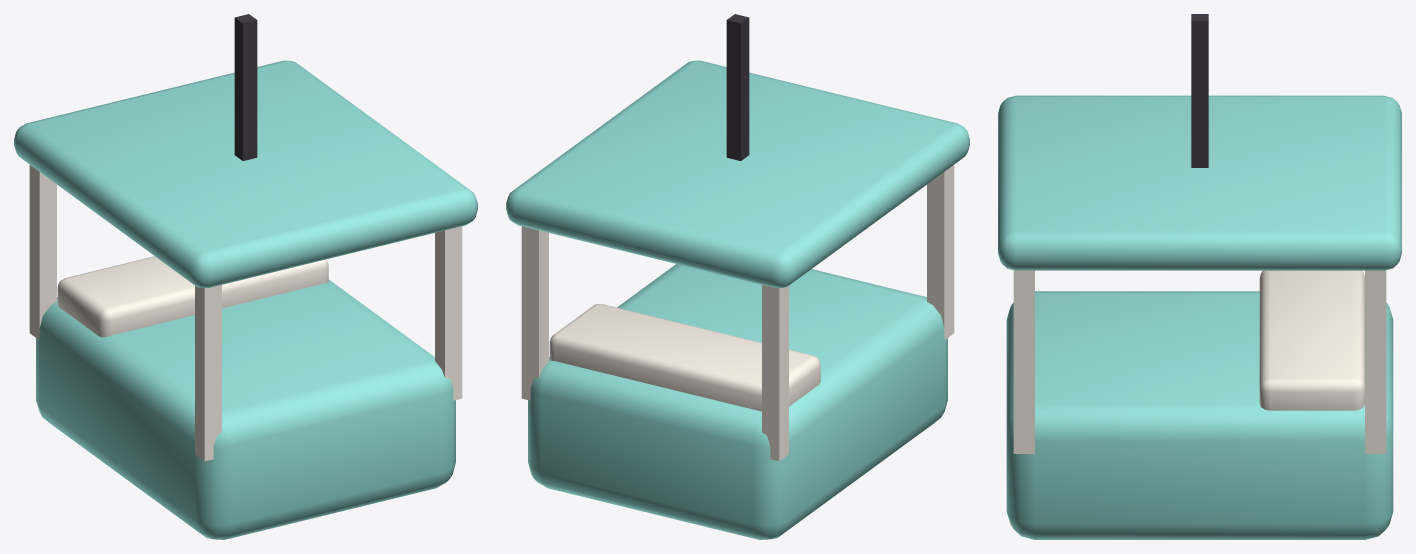
File: ferris_gondola_d.glb
The picture shows the model from 3 angles, left to right: view 1: azimuth 30°, elevation 25°; view 2: azimuth 150°, elevation 25°; view 3: azimuth 270°, elevation 25°; orthographic projection. The views are drawn at different scales.
Visible parts, largest first — view 1: ferris_gondola_d; view 2: ferris_gondola_d; view 3: ferris_gondola_d.
Boxes of the visible parts, x1,y1,x2,y2 form: ferris_gondola_d: [14, 14, 477, 539]; ferris_gondola_d: [506, 14, 969, 539]; ferris_gondola_d: [998, 14, 1401, 539].
Size of the model in its own units: 1 by 1.46 by 1.15.
